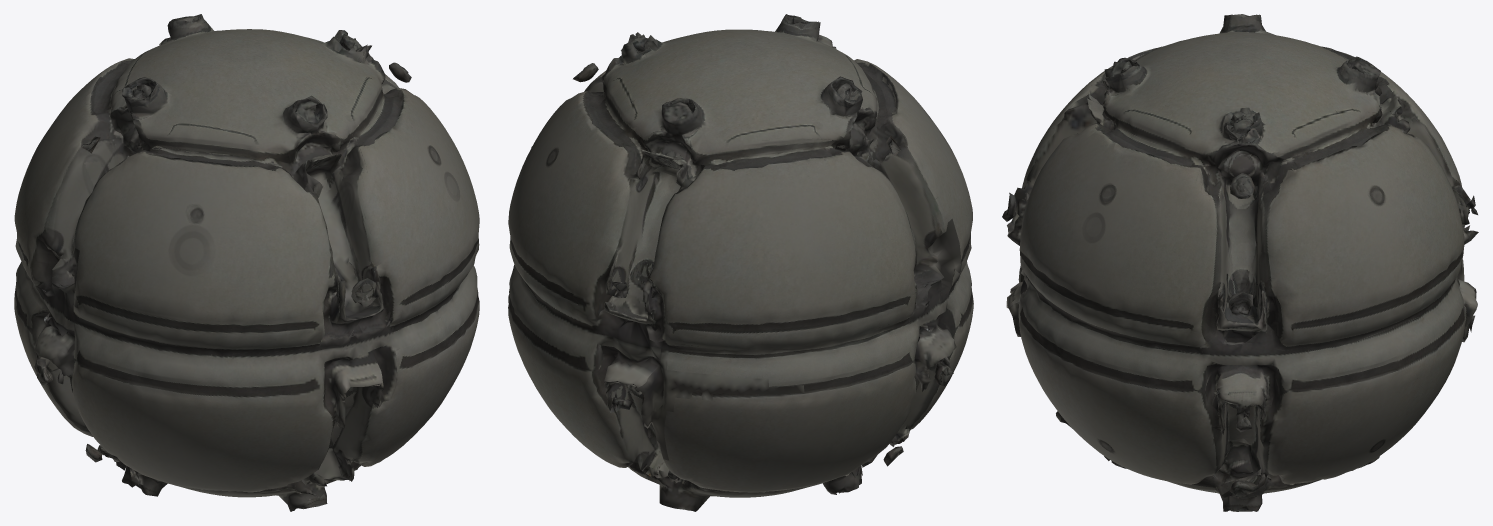
File: BossCore_Protected.glb
The picture shows the model from 3 angles, left to right: view 1: azimuth 30°, elevation 25°; view 2: azimuth 150°, elevation 25°; view 3: azimuth 270°, elevation 25°; orthographic projection.
Parts seen in each view (by area): view 1: texture_mapping; view 2: texture_mapping; view 3: texture_mapping.
Part boxes in pixels (x1,y1,x2,y2): texture_mapping: (14,14,479,511); texture_mapping: (508,14,973,511); texture_mapping: (1002,14,1478,511).
Bounding box in the file's own units: 0.9418 × 0.9154 × 0.9426.
Materials: 1 (1 with a texture image).
